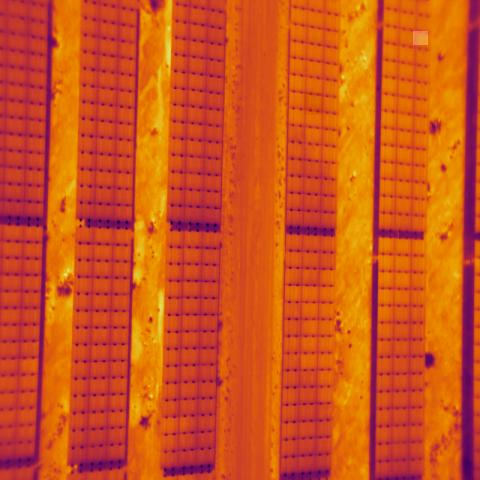fault: (304, 93, 323, 115), (413, 31, 428, 45)
